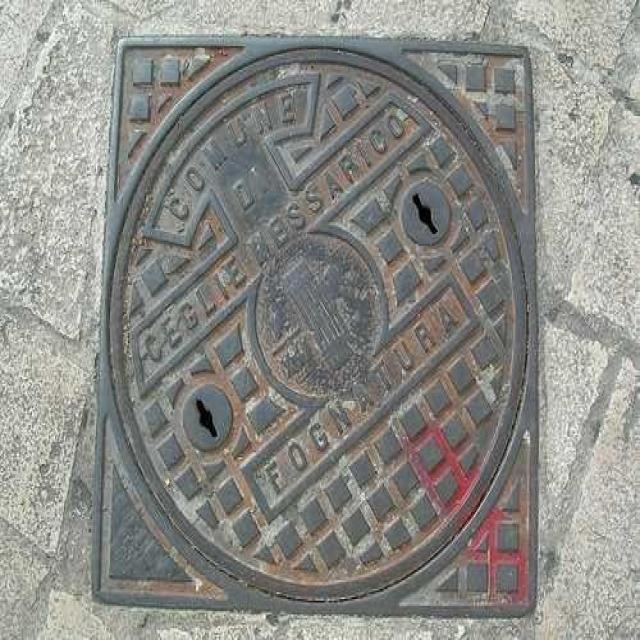manhole: (94, 38, 536, 614)
